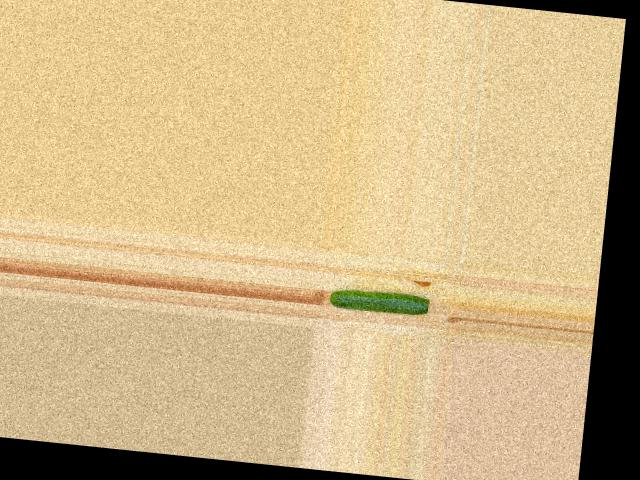cucumber: (328, 287, 428, 316)
